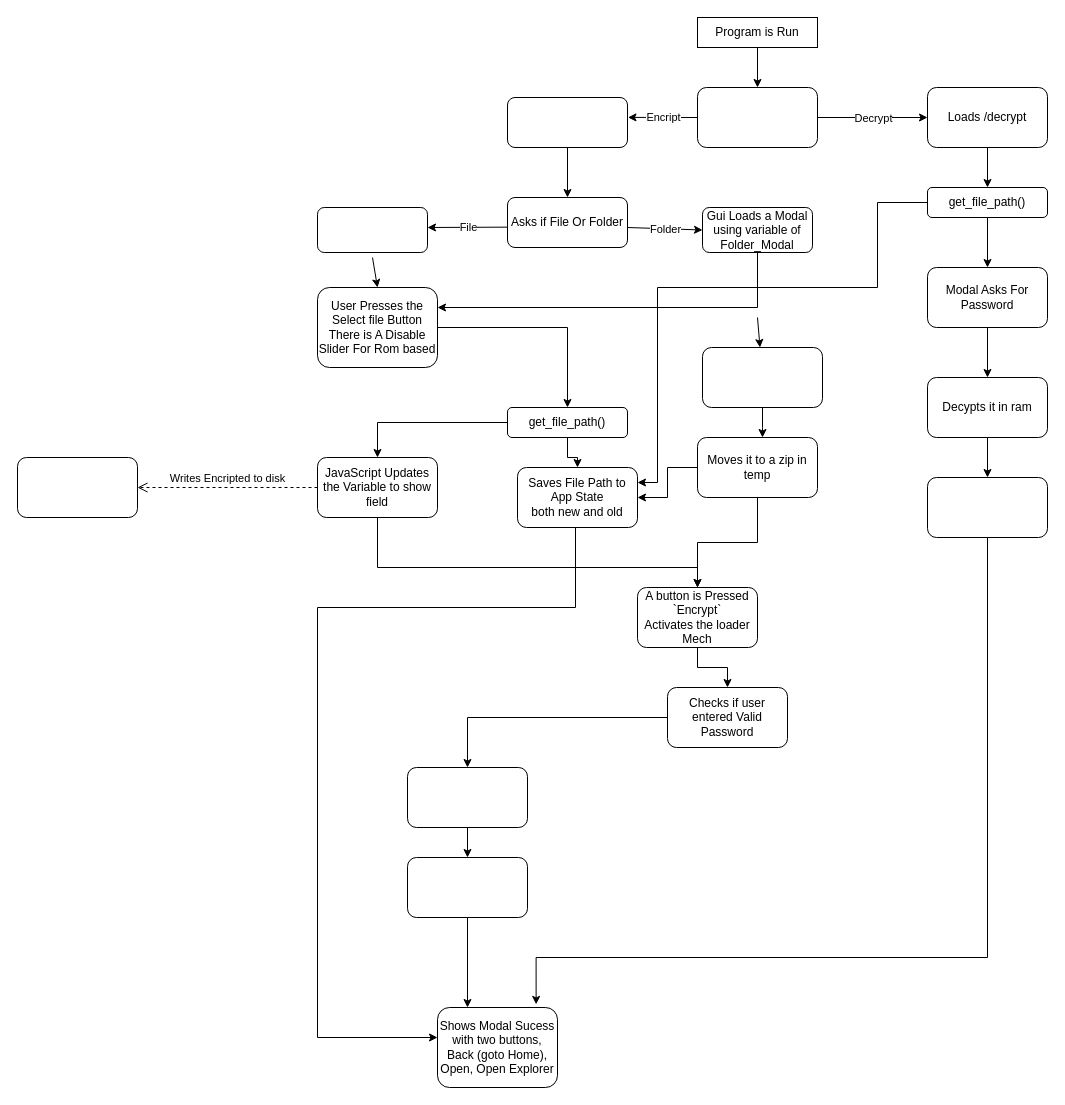
This 1065x1105 diagram has some shape labels left out. Each missing label, with the box of its shape:
Encripts File (in Ram): (406, 766, 528, 828)
For Future Update: (16, 456, 138, 518)
Gui Asks If Encript or Decript: (696, 86, 818, 148)
Gui Loads a Modal using variable of File_modal: (316, 206, 428, 252)
Loads /encrypt: (506, 96, 628, 148)
Places it to User/Documents/: (406, 856, 528, 918)
Selects Folder Path: (702, 346, 822, 408)
Writes on disk: (926, 476, 1048, 538)
